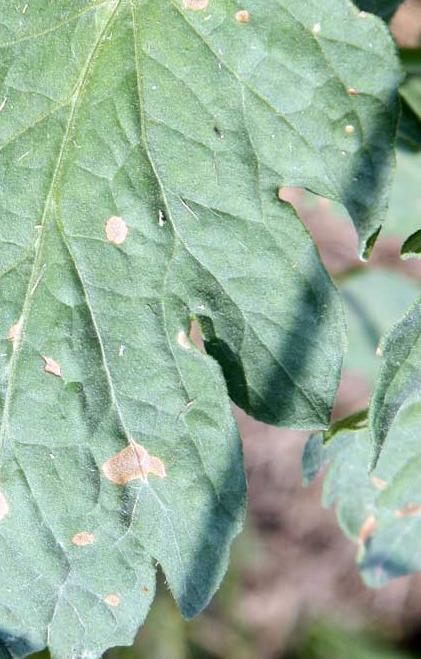Tomato leaf bacterial spot: (0, 0, 396, 659)
